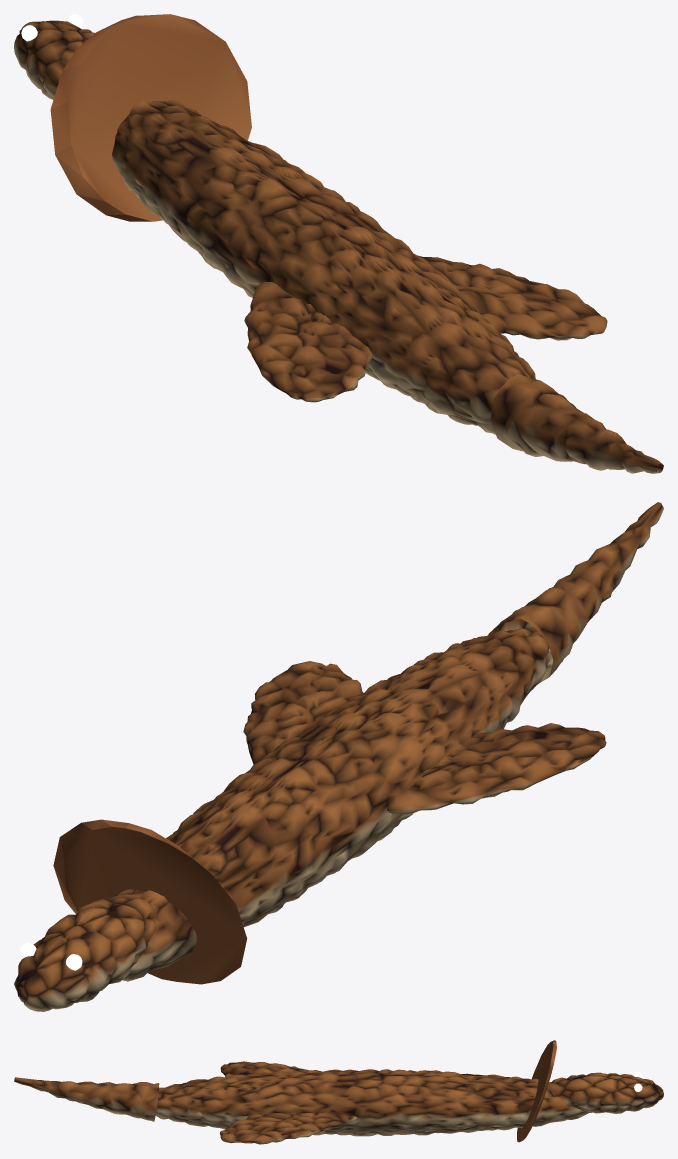
Rendered from ruuvak_small.glb.
The picture shows the model from 3 angles, top to bottom: view 1: azimuth 30°, elevation 25°; view 2: azimuth 150°, elevation 25°; view 3: azimuth 270°, elevation 25°; orthographic projection. The views are drawn at different scales.
Parts seen in each view (by area): view 1: ruuvak_small.001; view 2: ruuvak_small.001; view 3: ruuvak_small.001.
Part boxes in pixels (x1,y1,x2,y2): ruuvak_small.001: [14, 14, 663, 473]; ruuvak_small.001: [14, 502, 663, 1011]; ruuvak_small.001: [14, 1040, 663, 1144].
Bounding box in the file's own units: 2.9 × 1.56 × 10.
